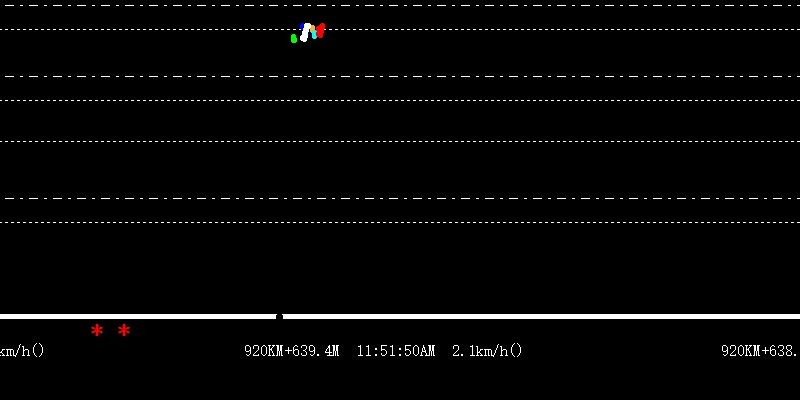face_1: (316, 21, 323, 39)
face_2: (299, 21, 316, 46)
face_down: (287, 25, 298, 45)
star: (115, 323, 132, 338), (89, 322, 104, 336)
